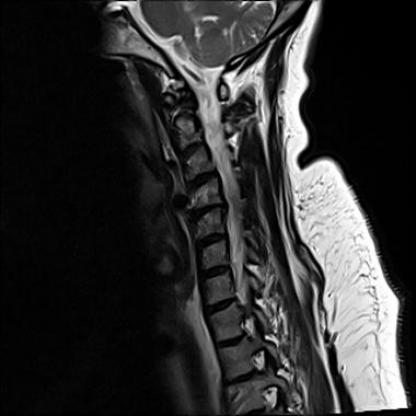Disc Bulgerotation: (183, 172, 220, 189), (187, 204, 228, 217), (179, 141, 205, 154)
Disc Protrusionrotation: (187, 204, 228, 217)
